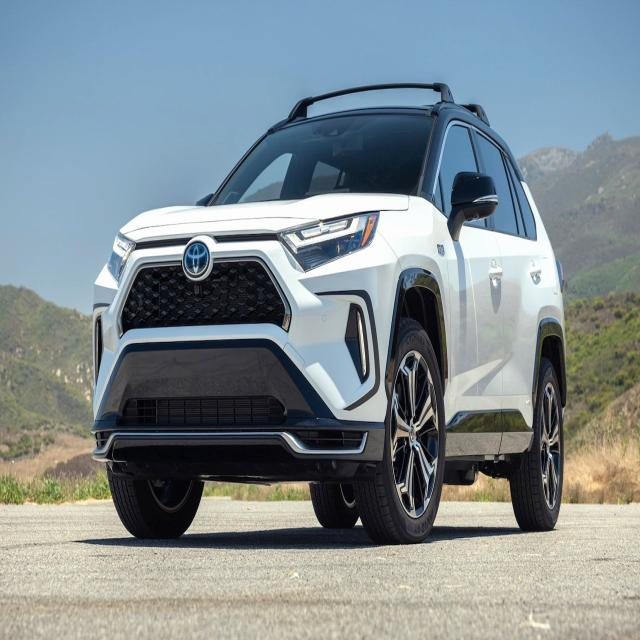light_vehicle: (90, 82, 568, 546)
